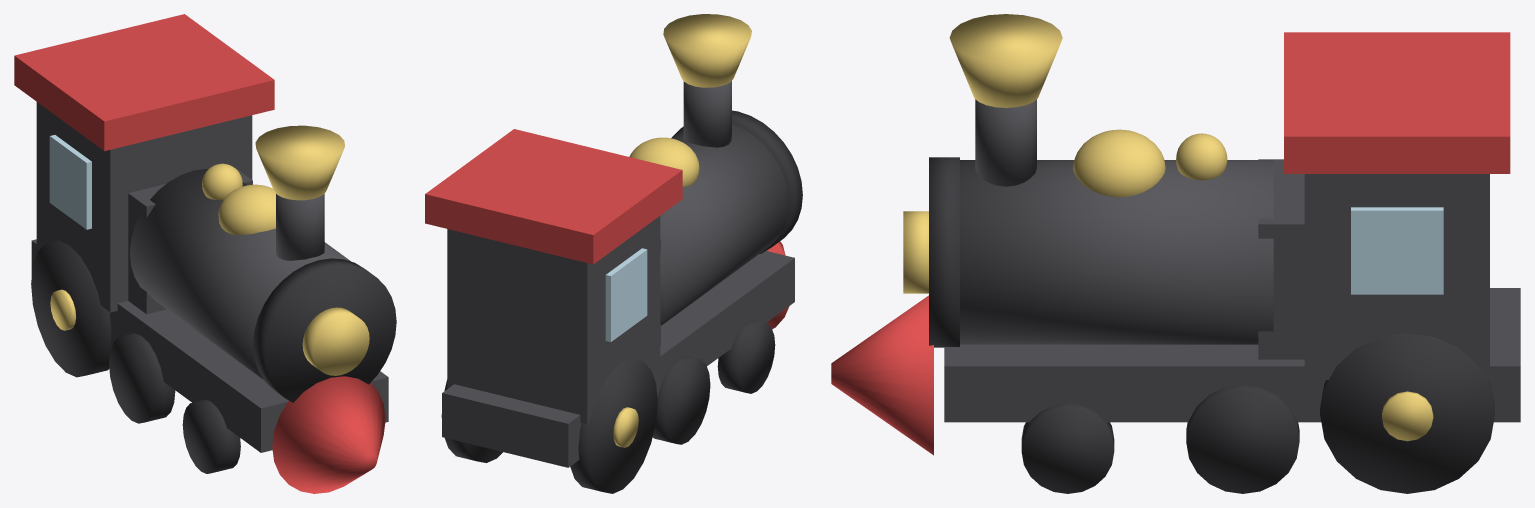
The model's file is train.glb.
3 renders of one model, left to right at view 1: azimuth 30°, elevation 25°; view 2: azimuth 150°, elevation 25°; view 3: azimuth 270°, elevation 25°, orthographic. The views are drawn at different scales.
Parts seen in each view (by area): view 1: Train_CabRoof, Train_Boiler, Train_Cab, Train_BoilerFace, Train_Chassis, Train_CowCatcher, Train_Wheel_L_0, Train_ChimneyCap, Train_Wheel_L_1, Train_Headlight, Train_Wheel_L_2, Train_Window_L (+5 smaller); view 2: Train_Cab, Train_CabRoof, Train_Chassis, Train_Boiler, Train_Wheel_L_0, Train_ChimneyCap, Train_Wheel_L_1, Train_Wheel_L_2, Train_Window_L, Train_Chimney, Train_BoilerFace, Train_Dome (+2 smaller); view 3: Train_Boiler, Train_CabRoof, Train_Chassis, Train_Cab, Train_Wheel_R_0, Train_Wheel_R_1, Train_CowCatcher, Train_Window_R, Train_ChimneyCap, Train_Firebox, Train_Wheel_R_2, Train_BoilerFace (+5 smaller).
Boxes of the visible parts, <box> form: Train_CabRoof: <box>14,14,274,151</box>; Train_Boiler: <box>130,169,350,379</box>; Train_Cab: <box>36,102,252,312</box>; Train_BoilerFace: <box>253,258,396,402</box>; Train_Chassis: <box>31,239,388,452</box>; Train_CowCatcher: <box>272,376,385,493</box>; Train_Wheel_L_0: <box>31,240,112,377</box>; Train_ChimneyCap: <box>255,125,344,200</box>; Train_Wheel_L_1: <box>109,333,175,423</box>; Train_Headlight: <box>302,307,369,375</box>; Train_Wheel_L_2: <box>182,399,240,473</box>; Train_Window_L: <box>49,135,91,229</box>; Train_Cab: <box>447,216,660,423</box>; Train_CabRoof: <box>425,129,682,264</box>; Train_Chassis: <box>442,251,794,467</box>; Train_Boiler: <box>660,124,788,325</box>; Train_Wheel_L_0: <box>570,359,657,493</box>; Train_ChimneyCap: <box>663,14,751,87</box>; Train_Wheel_L_1: <box>652,355,710,444</box>; Train_Wheel_L_2: <box>717,320,775,393</box>; Train_Window_L: <box>605,248,647,341</box>; Train_Chimney: <box>683,81,731,147</box>; Train_BoilerFace: <box>672,110,802,254</box>; Train_Dome: <box>629,137,699,186</box>; Train_Boiler: <box>960,160,1273,344</box>; Train_CabRoof: <box>1284,32,1510,173</box>; Train_Chassis: <box>944,288,1520,422</box>; Train_Cab: <box>1304,174,1489,379</box>; Train_Wheel_R_0: <box>1320,333,1494,493</box>; Train_Wheel_R_1: <box>1186,385,1299,493</box>; Train_CowCatcher: <box>831,295,933,455</box>; Train_Window_R: <box>1351,207,1443,294</box>; Train_ChimneyCap: <box>949,14,1062,107</box>; Train_Firebox: <box>1258,159,1304,359</box>; Train_Wheel_R_2: <box>1021,403,1114,493</box>; Train_BoilerFace: <box>929,157,959,347</box>.
Bounding box in the file's own units: 0.048 × 0.088 × 0.134.
